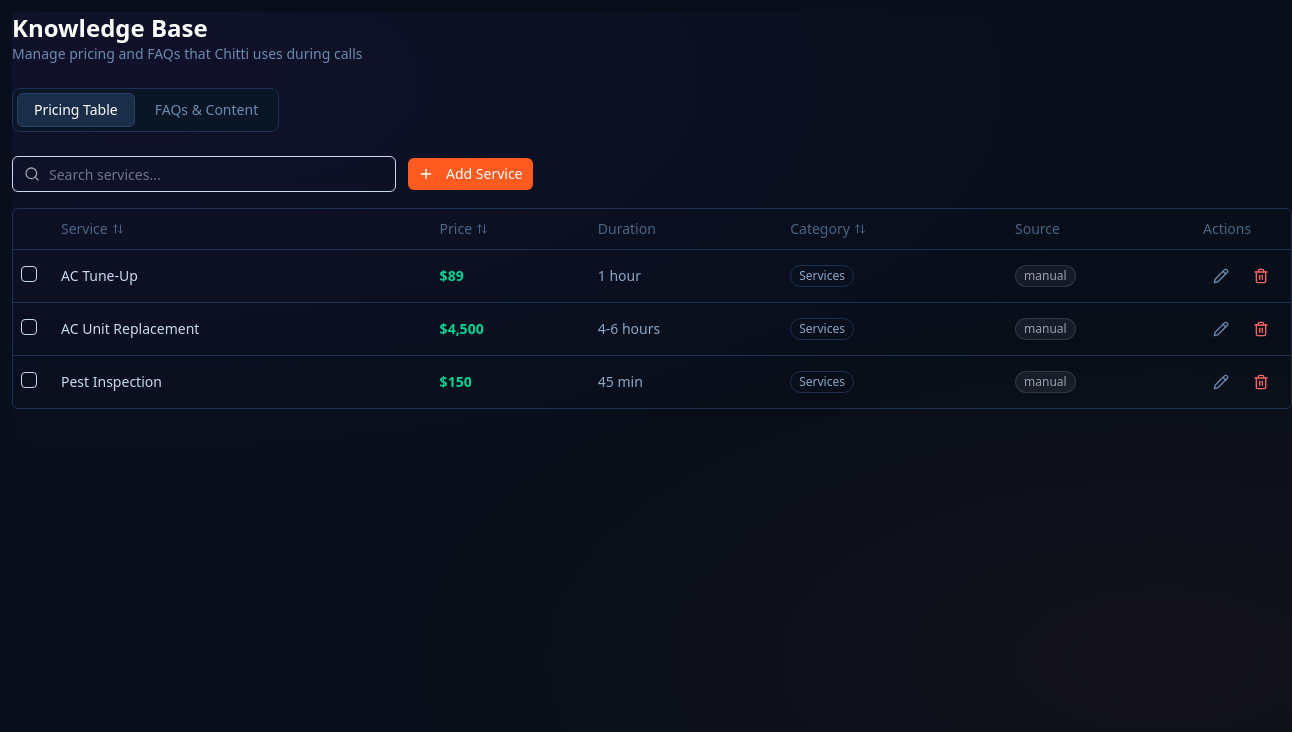
Scenario: KnowledgeBasePage › should filter pricing items when searching
Check: the text "AC Tune-Up" is shown, box [53,249,432,302]
Type "AC" into the field with placeholder "Search services..." at {"x": 204, "y": 174}, box [12,156,396,192]
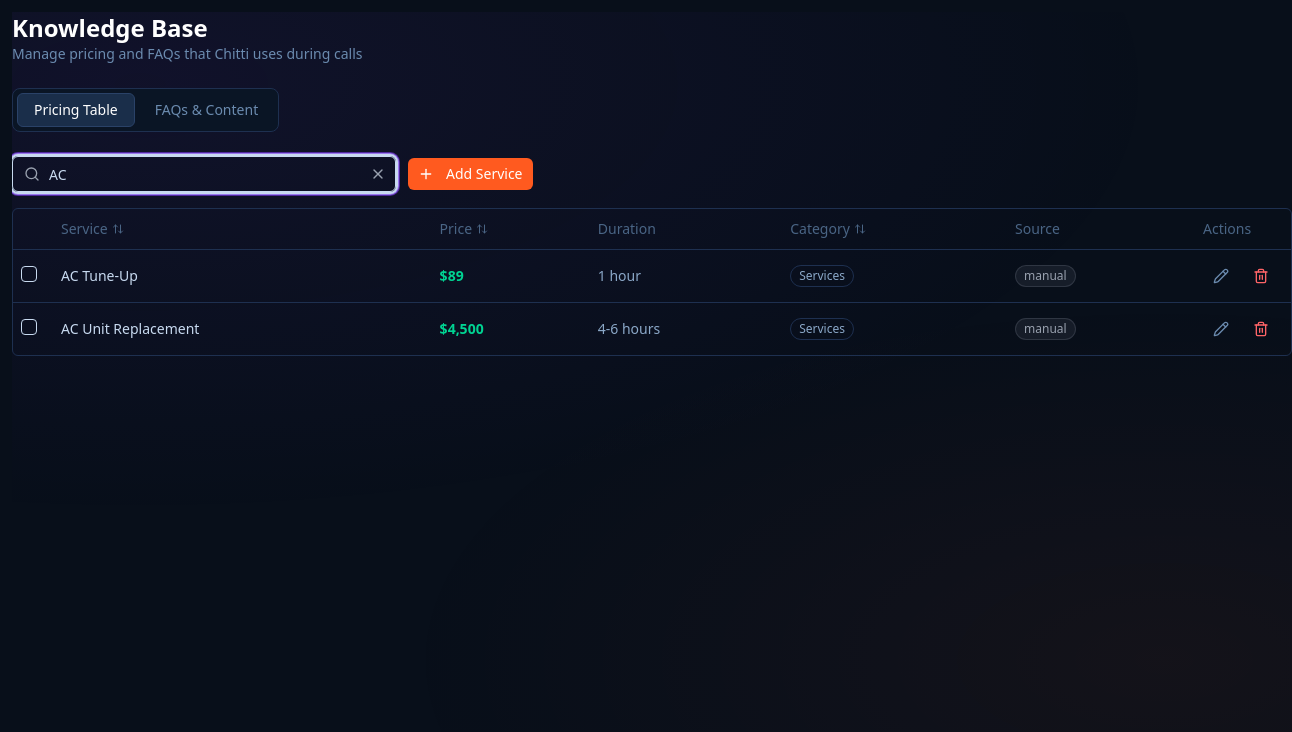
Check: the text "AC Tune-Up" is shown, box [53,249,432,302]
Check: the text "Pest Inspection" is gone
